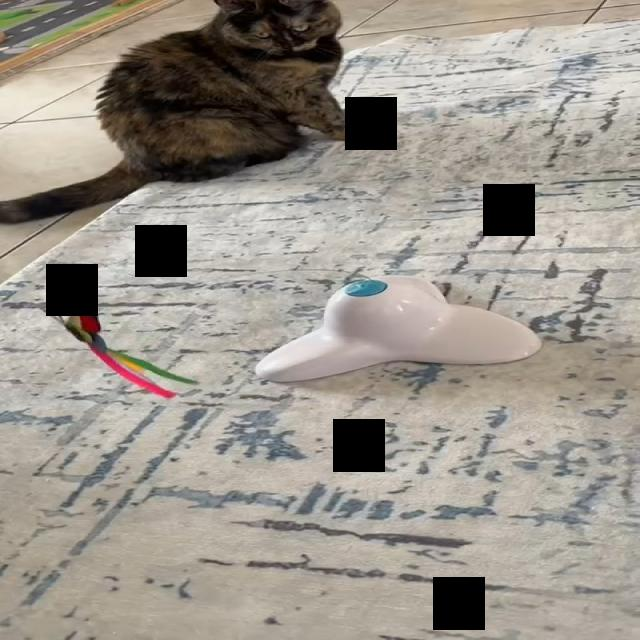authorized: (0, 0, 376, 224)
